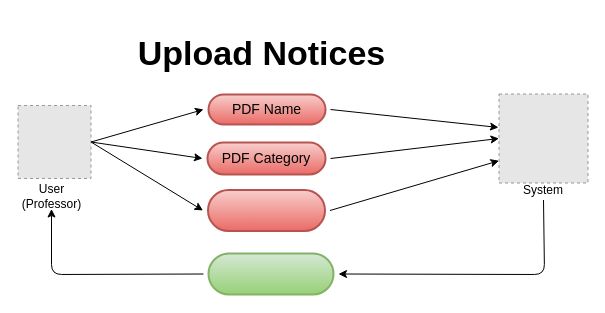
Some shapes in this 605 by 313 pixel diagram are drawn without their labels. Grey dashed boxes stand in for pictures. Each missing label, with the centre of its shape:
PDF Expiry Date (if any): point 266,210
Uploaded: point 270,273
